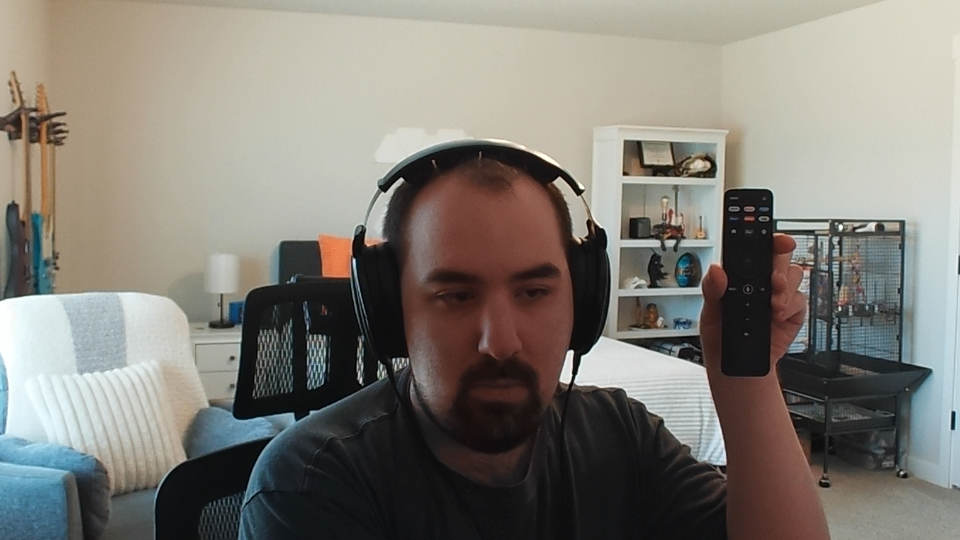TVRemote: (720, 188, 775, 377)
